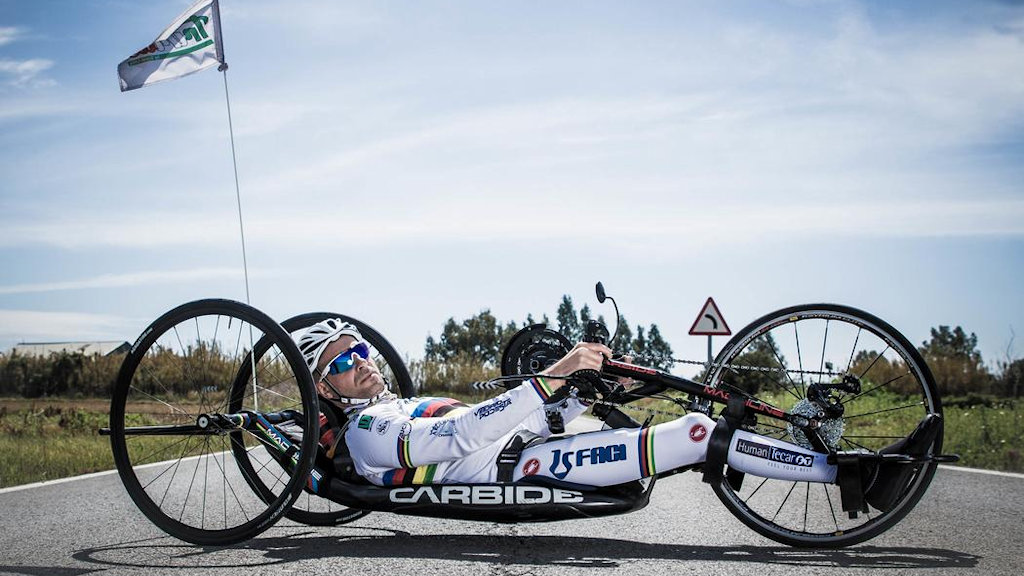Flag: (113, 1, 230, 100)
